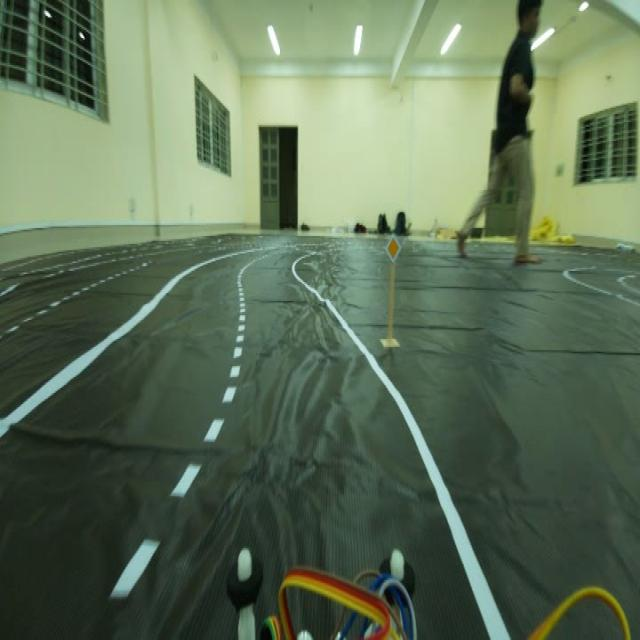priority: (382, 231, 403, 268)
